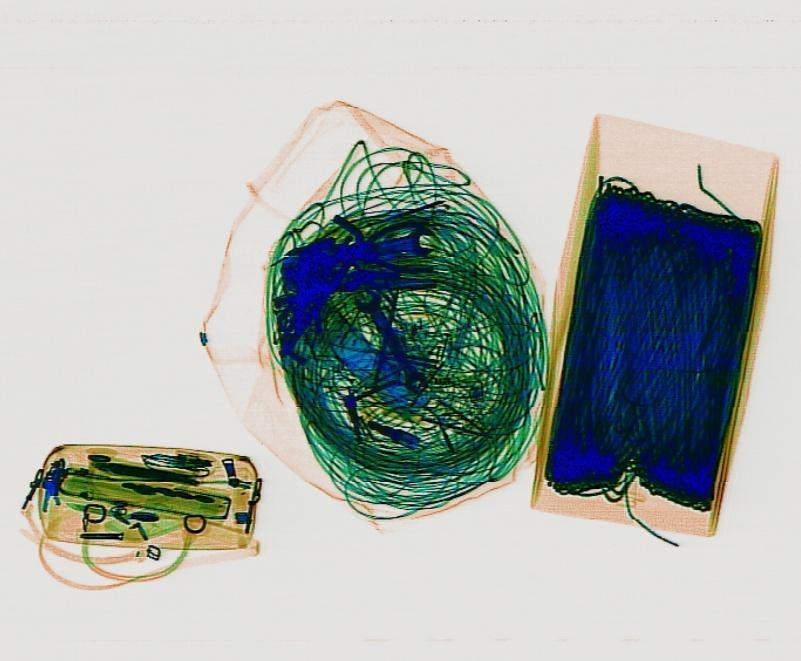Wrench: (347, 288, 437, 397), (353, 225, 437, 263)
